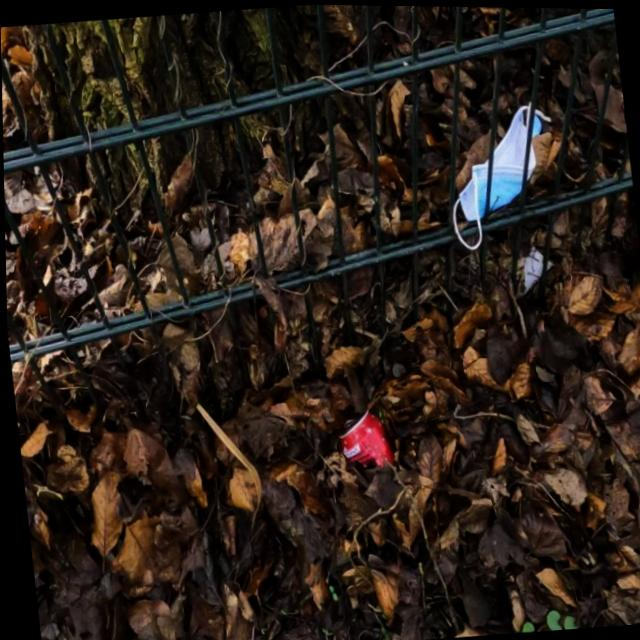Can-Metal: (330, 404, 395, 481)
Mask: (437, 96, 565, 252)
